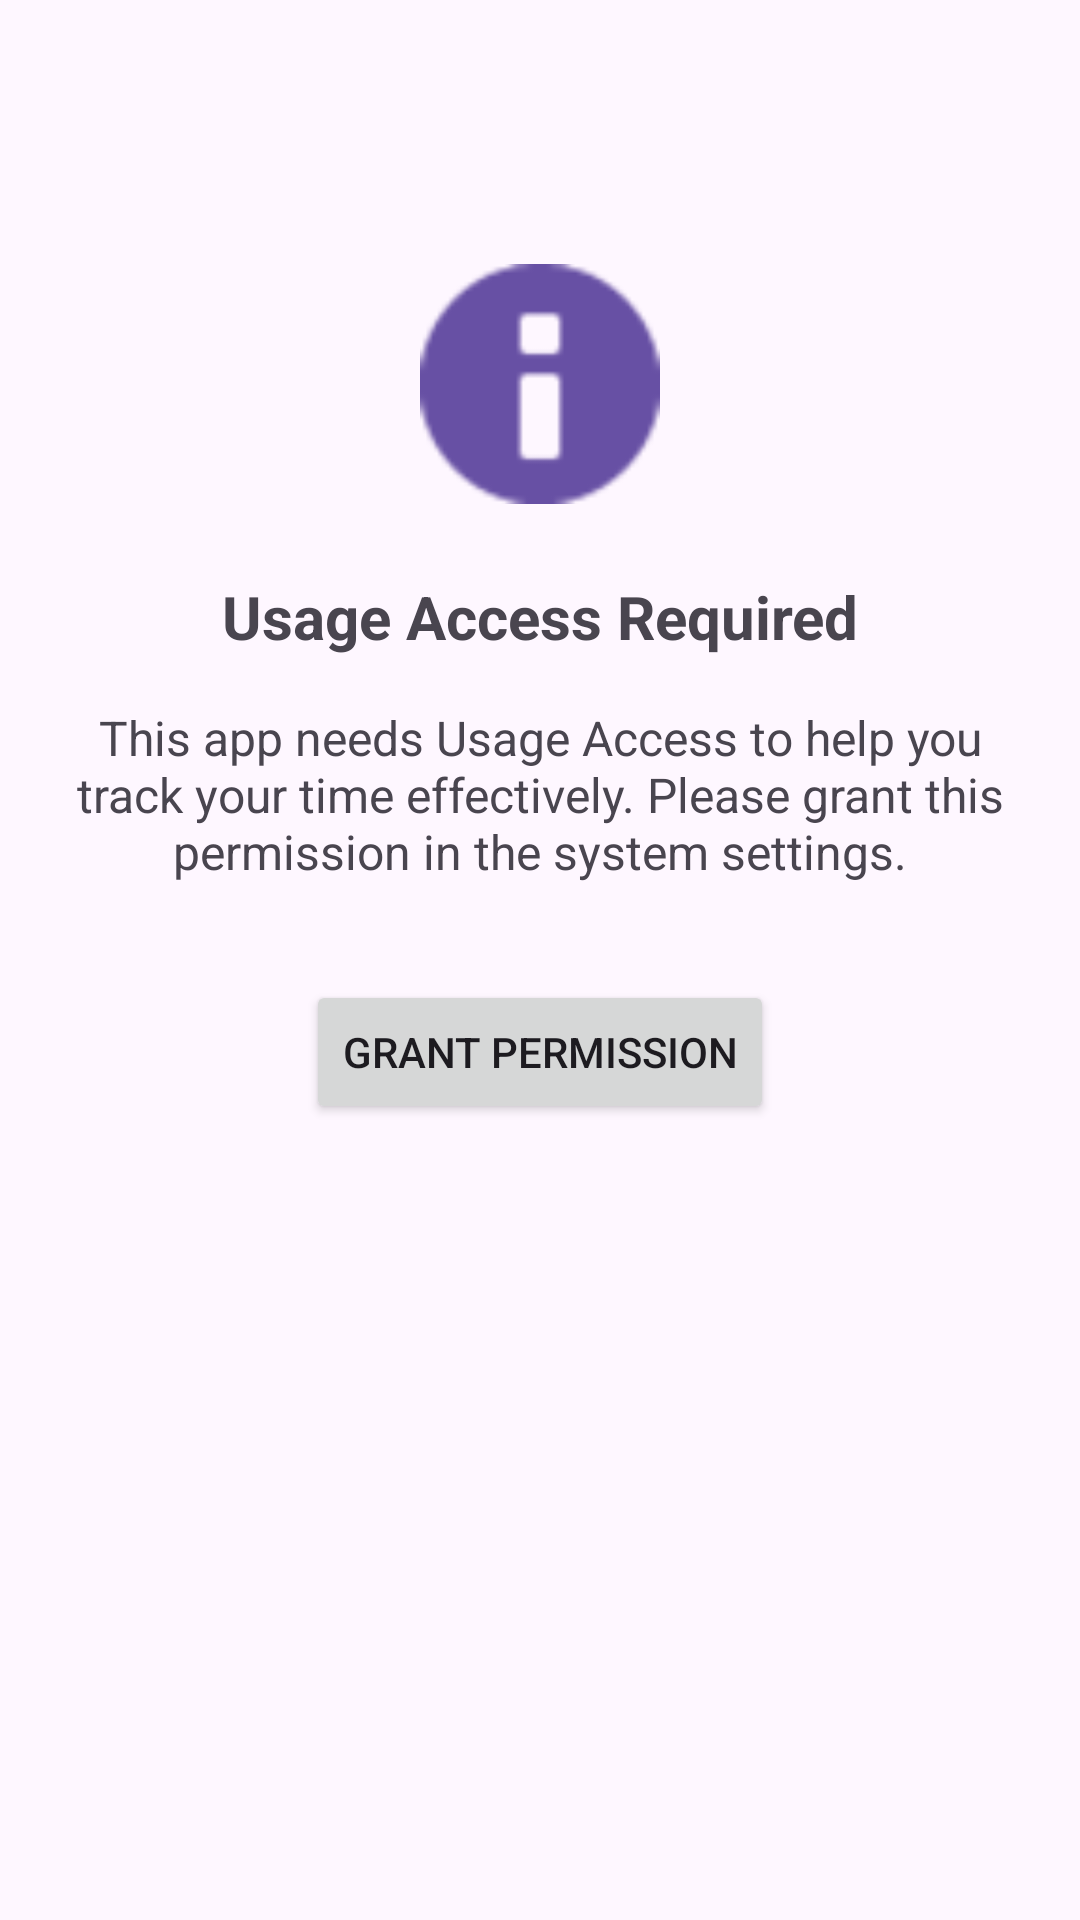

Where icons sit on this 1080w x 1920h app screen, as (x1, y1, x2, y2):
info: (420, 264, 660, 504)
